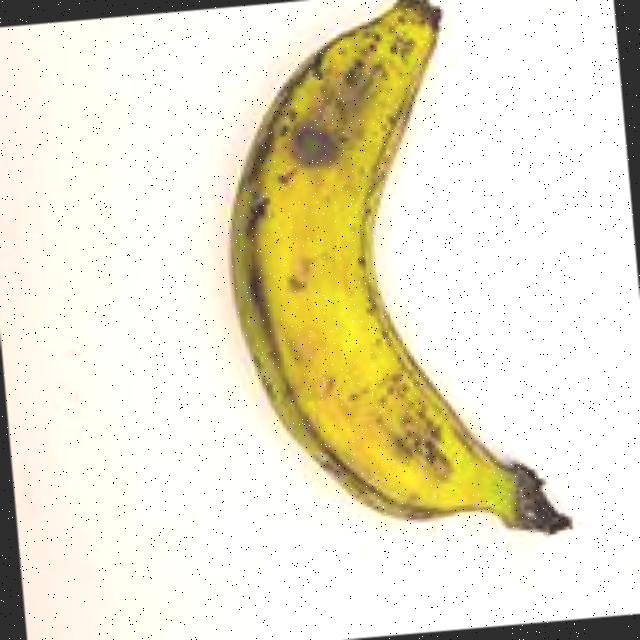Overripe: (176, 0, 603, 569)
